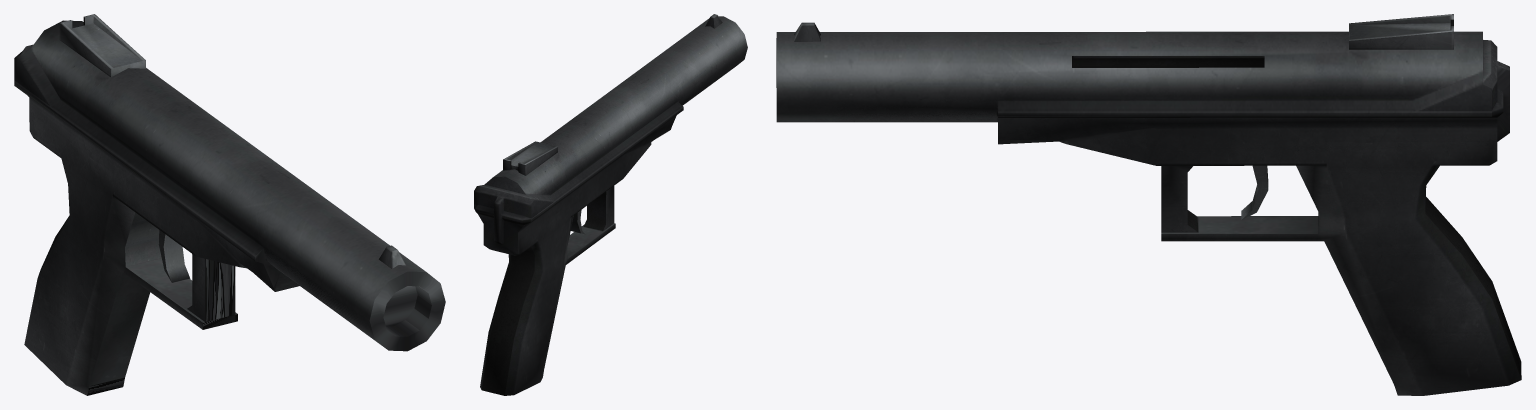
Rendered from Tac-9.FBX.
3 renders of one model, left to right at view 1: azimuth 30°, elevation 25°; view 2: azimuth 150°, elevation 25°; view 3: azimuth 270°, elevation 25°, orthographic. The views are drawn at different scales.
Visible parts, largest first — view 1: tec-9; view 2: tec-9; view 3: tec-9.
Part boxes in pixels (<box>): tec-9: <box>14,14,445,395</box>; tec-9: <box>474,14,747,395</box>; tec-9: <box>776,14,1521,395</box>.
Size of the model in its own units: 5.1 by 19.07 by 35.42.
